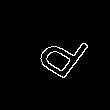P_SW: (22, 23, 88, 87)
